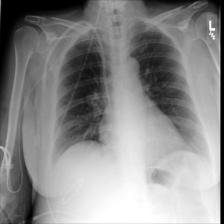normal: (46, 13, 214, 171)
